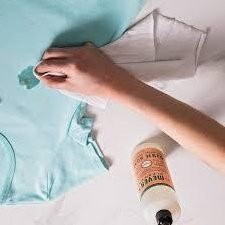oil: (16, 67, 32, 91), (27, 79, 44, 91)
